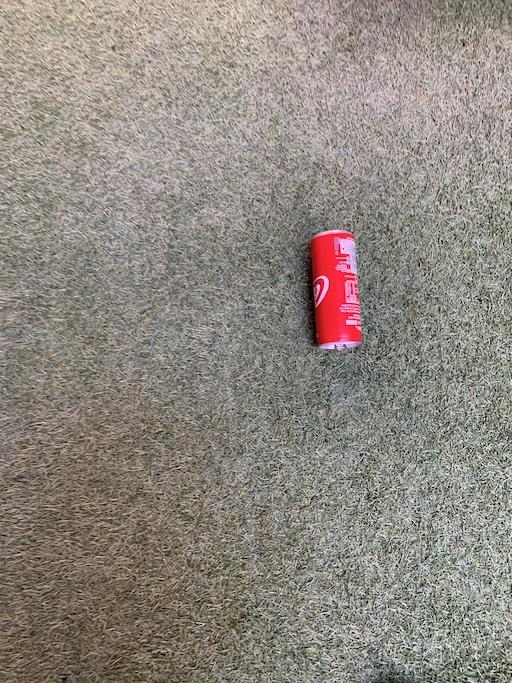Aluminum can: (291, 217, 392, 374)
